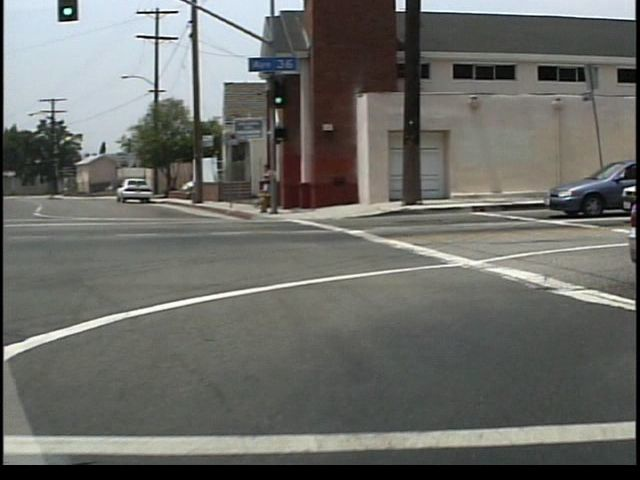person: (266, 164, 284, 215)
